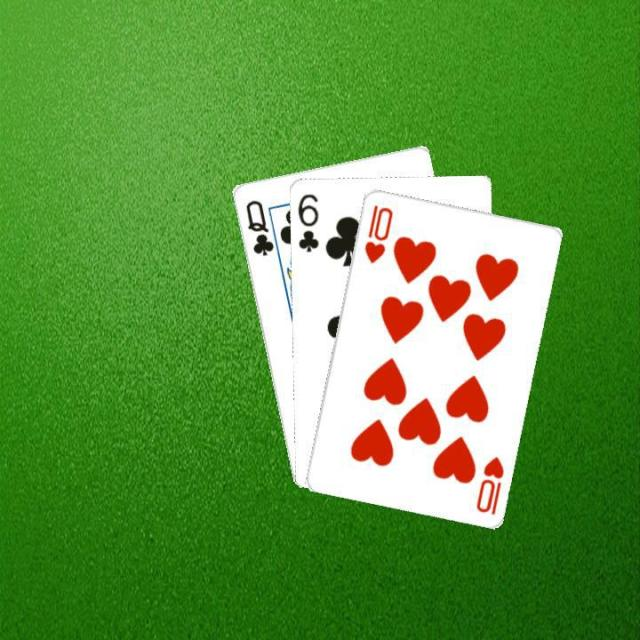10H: (360, 201, 395, 265), (471, 452, 506, 516)
6C: (292, 190, 320, 253)
QC: (241, 195, 275, 258)
